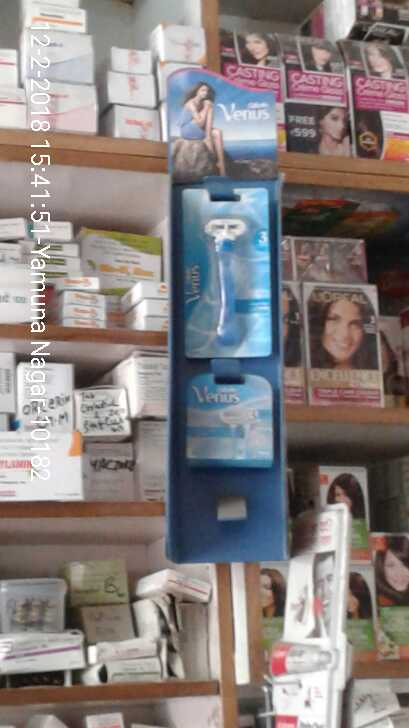venus: (178, 187, 275, 360), (186, 370, 277, 469)
